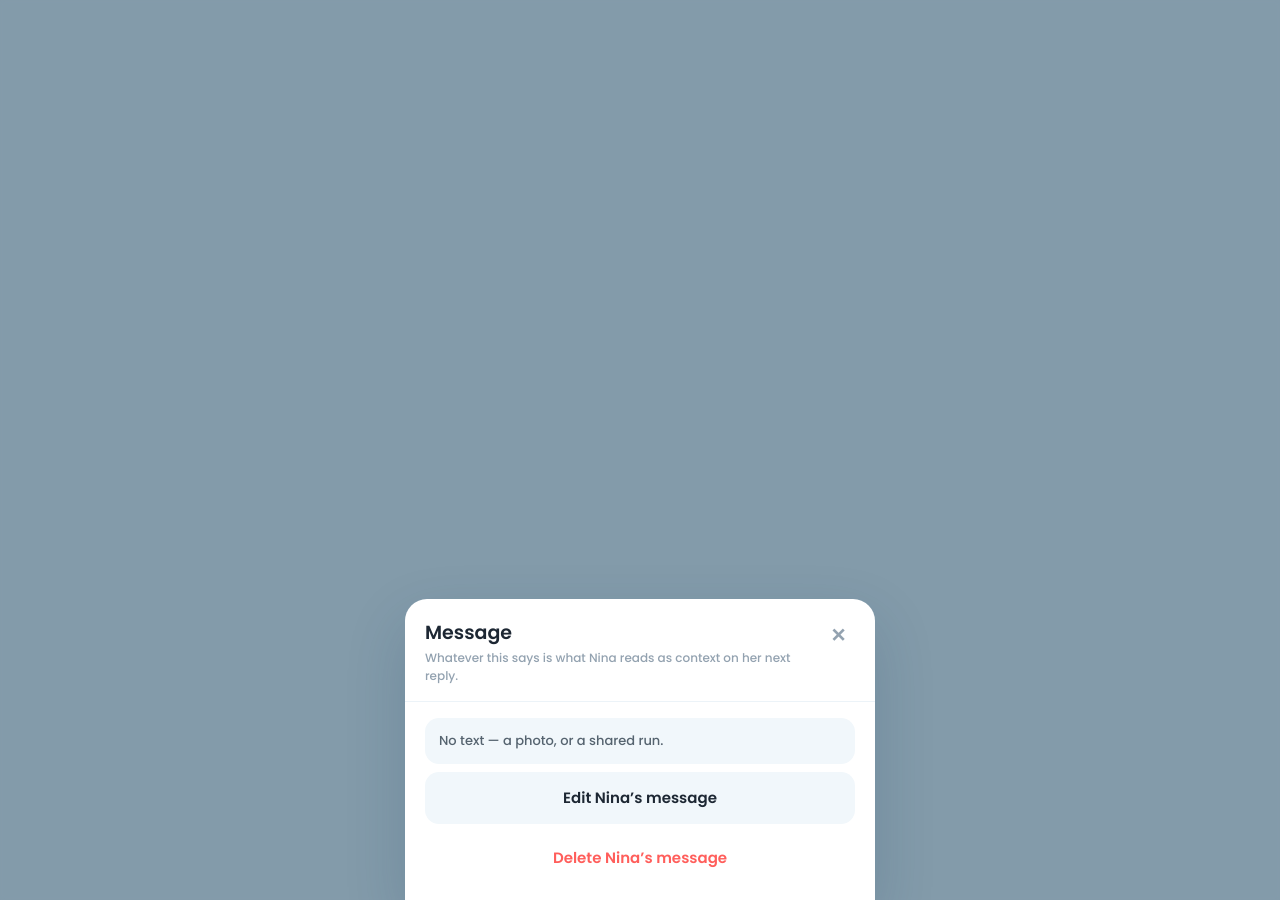
Test case: MessageActionsSheet › editing › clears a stale refusal as soon as the textarea changes
Click the button "Edit Nina’s message". click: [640, 798]
box: left=425, top=772, right=855, bottom=824
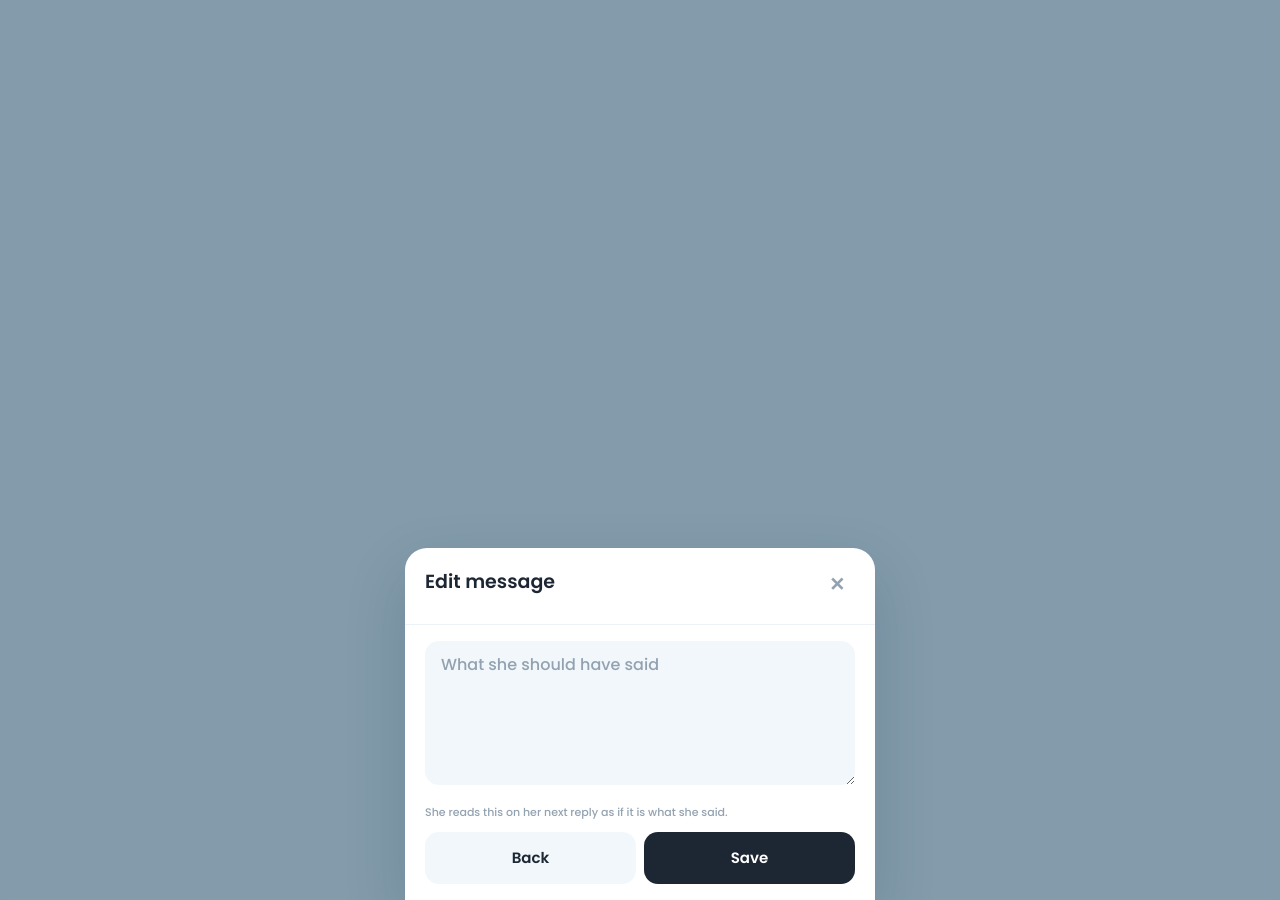
Click the button "Save". click: [750, 858]
box: left=644, top=832, right=855, bottom=884
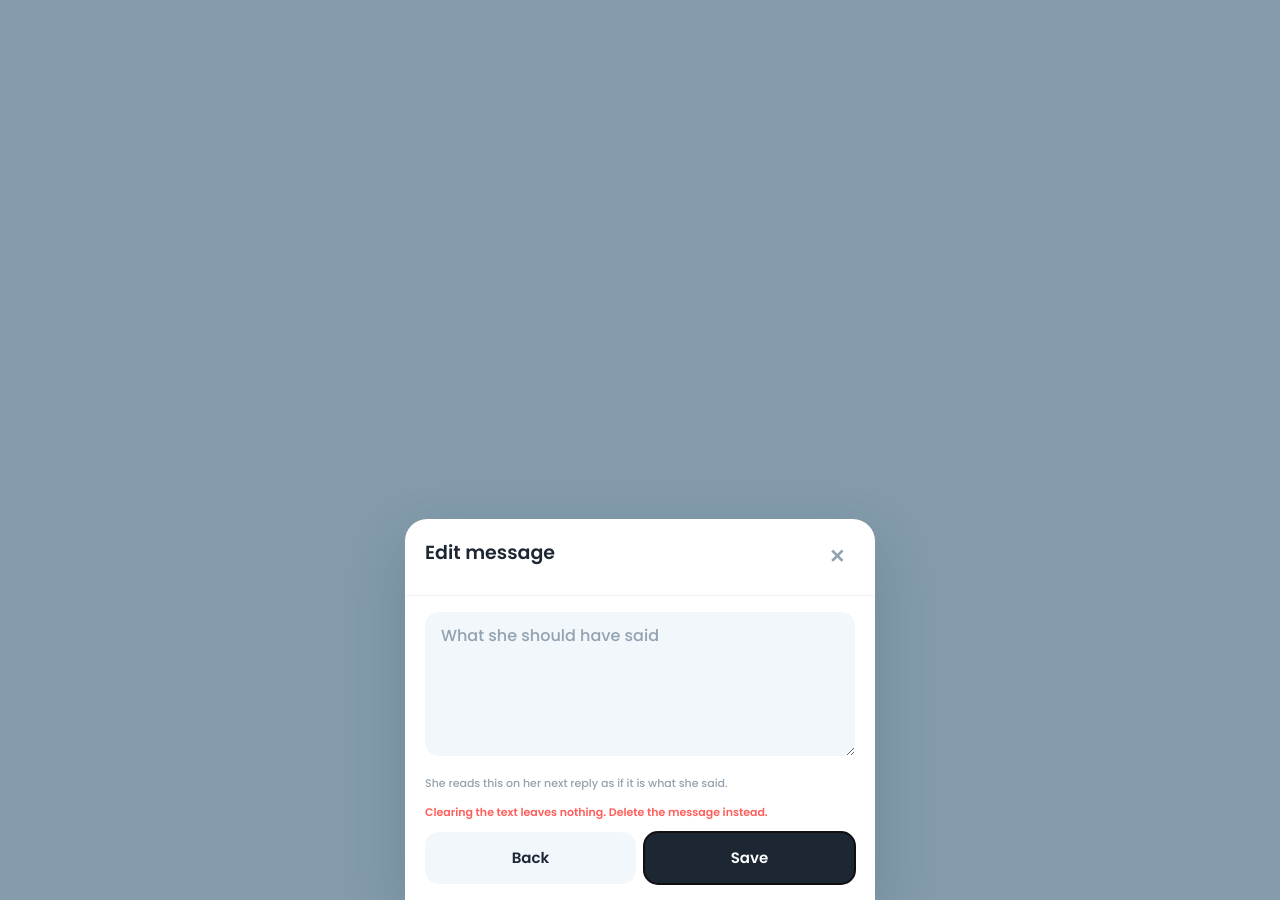
Expected: the text "Clearing the text leaves nothing. Delete the message instead." is shown, left=425, top=804, right=768, bottom=820
Type "a" into the text box. click: [640, 684]
box: left=425, top=612, right=855, bottom=756
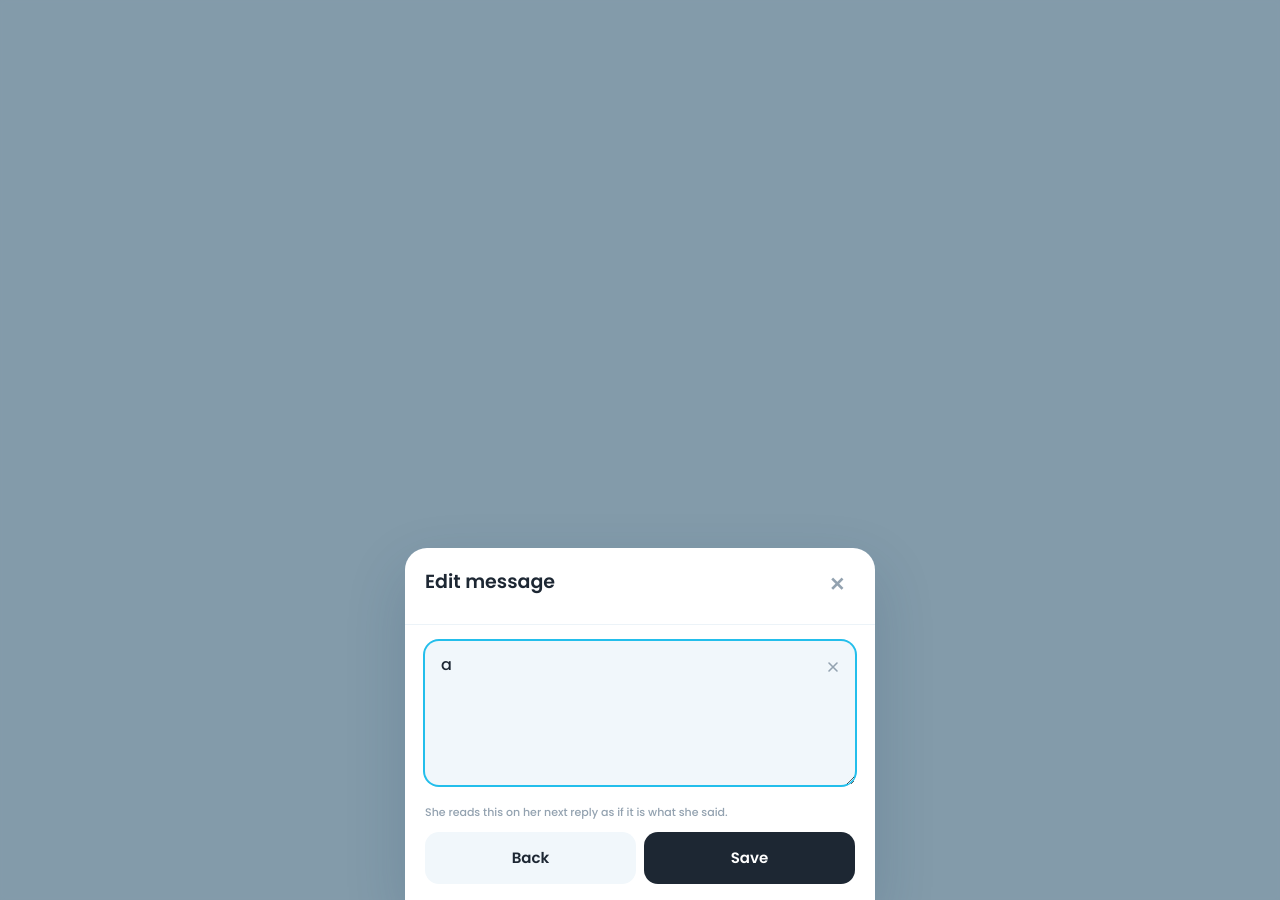
Expected: the text "Clearing the text leaves nothing. Delete the message instead." is gone
